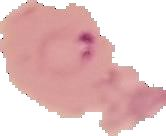parasitized: (31, 20, 119, 83)
